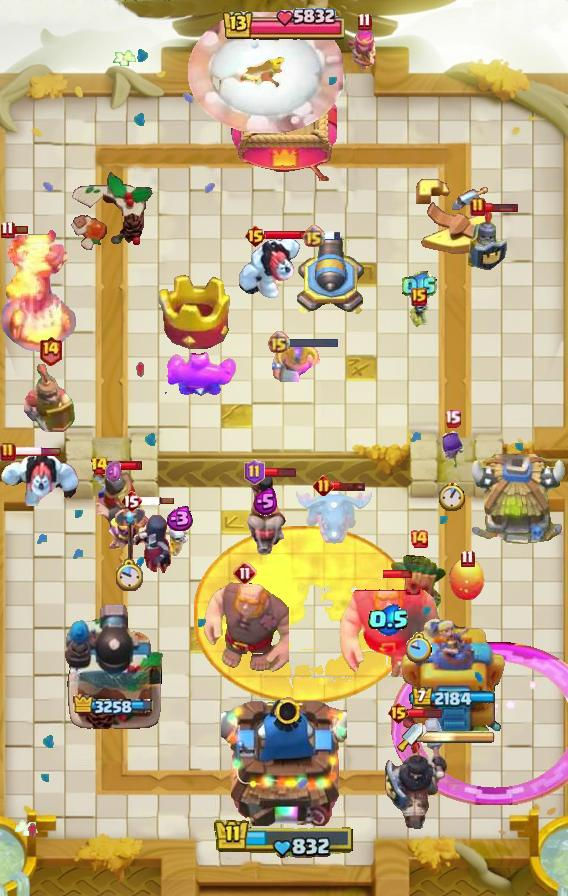arrows: (107, 503, 149, 549)
balloon: (336, 579, 442, 677), (201, 578, 289, 676)
bar: (402, 615, 507, 731)
cannon: (346, 28, 382, 76)
clock: (214, 818, 354, 859), (221, 5, 347, 45)
earthquake: (23, 364, 77, 434)
electro-dragon: (0, 227, 78, 355)
electro-spirit: (368, 604, 410, 636), (403, 270, 438, 301), (162, 505, 193, 531), (254, 488, 279, 517), (104, 460, 123, 484)
elite-barbarian: (243, 469, 287, 555)
elixir: (114, 559, 142, 593), (407, 632, 434, 663), (439, 481, 465, 510)
emote: (287, 335, 339, 348), (8, 446, 62, 457), (263, 231, 316, 242), (331, 480, 367, 492), (408, 707, 444, 719), (485, 201, 520, 213), (263, 466, 298, 478), (107, 460, 145, 471), (139, 496, 175, 506), (383, 569, 415, 579), (322, 230, 342, 242), (9, 224, 29, 235)
firecracker: (92, 464, 135, 533)
goblin: (437, 430, 467, 470)
goblin-barrel: (390, 554, 448, 622)
goblin-giant: (272, 339, 321, 382)
graveyard: (296, 485, 374, 547)
heal-spirit: (164, 525, 192, 557), (407, 296, 431, 328)
hog: (447, 558, 487, 602)
inferno-dragon: (383, 712, 449, 832)
king-tower: (221, 690, 347, 826), (231, 45, 337, 181)
king-tower-bar: (423, 730, 495, 744)
knight-evolution: (392, 643, 568, 806)
phoenix-egg: (194, 526, 418, 704)
prince: (466, 454, 568, 550)
princess: (463, 209, 513, 273)
rage: (0, 452, 80, 506), (235, 236, 301, 300)
rascal-boy: (113, 504, 173, 578)
royal-recruit: (294, 236, 366, 320)
selected: (73, 694, 155, 718), (411, 687, 495, 709)
text: (37, 335, 62, 365), (233, 561, 257, 585), (303, 224, 326, 248), (244, 224, 267, 248), (386, 701, 409, 725), (243, 459, 264, 485), (267, 330, 290, 353), (120, 489, 142, 513), (314, 476, 335, 497), (409, 529, 429, 549), (90, 456, 109, 476), (470, 197, 486, 217), (0, 442, 16, 462), (444, 409, 461, 427), (411, 288, 427, 306), (1, 220, 16, 239), (461, 549, 476, 567), (357, 13, 371, 32)
tornado: (165, 349, 237, 399)
tower-bar: (64, 601, 164, 731)
wall-breaker: (189, 11, 343, 133)
